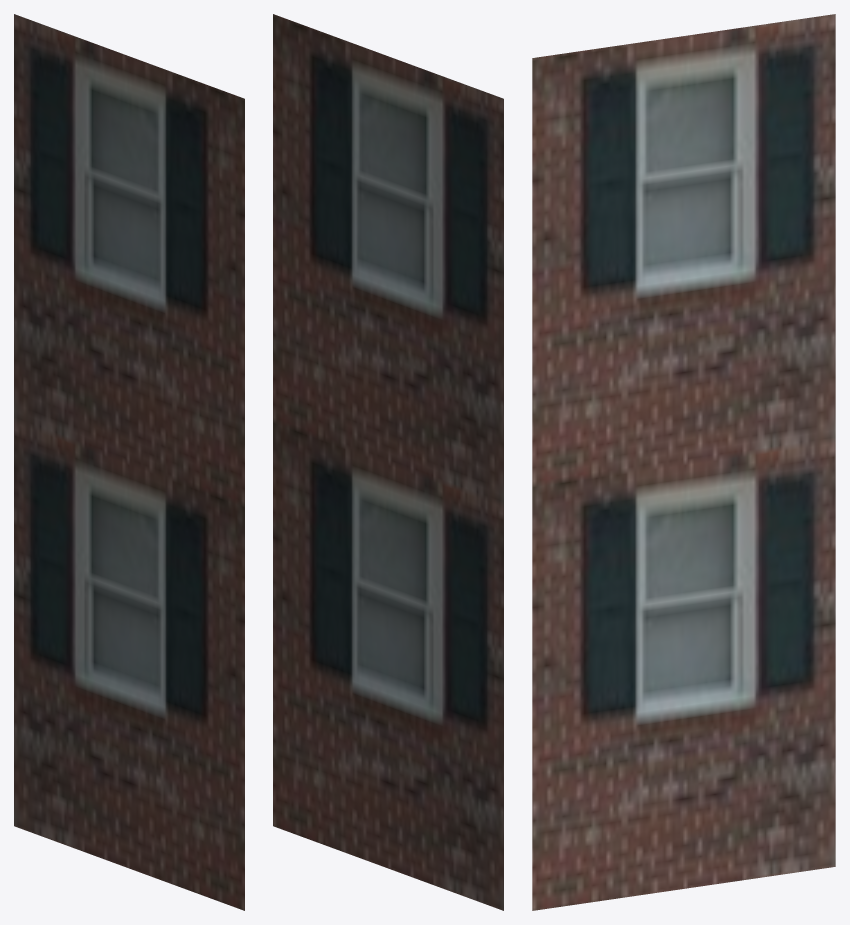
Rendered from ResTex__2928.fbx.
The picture shows the model from 3 angles, left to right: view 1: azimuth 30°, elevation 25°; view 2: azimuth 210°, elevation 25°; view 3: azimuth 270°, elevation 25°; orthographic projection. The views are drawn at different scales.
Parts seen in each view (by area): view 1: CityEngineMaterial_14_m; view 2: CityEngineMaterial_14_m; view 3: CityEngineMaterial_14_m.
Boxes of the visible parts, box(x1,y1,x2,y2) form: CityEngineMaterial_14_m: box(14, 14, 244, 910); CityEngineMaterial_14_m: box(273, 14, 503, 910); CityEngineMaterial_14_m: box(532, 14, 835, 910).
Size of the model in its own units: 0.6663 by 6 by 1.93.
1 material, 1 textured.
